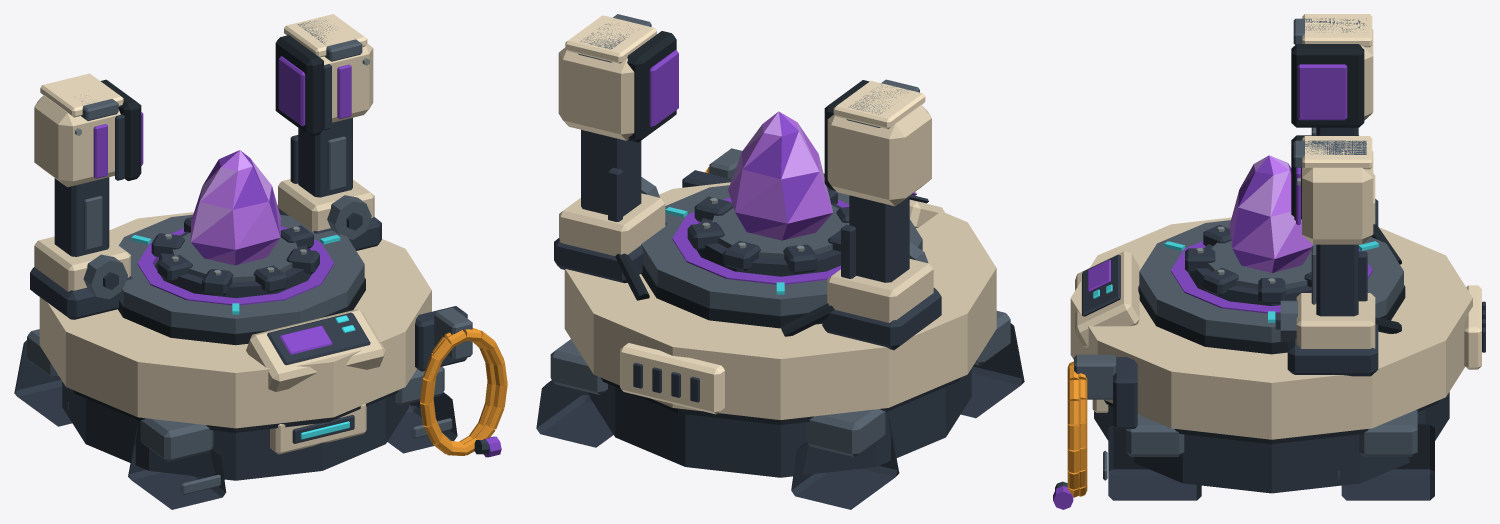
3 views of the same model, side by side, from view 1: azimuth 30°, elevation 25°; view 2: azimuth 150°, elevation 25°; view 3: azimuth 270°, elevation 25° (orthographic). The views are drawn at different scales.
Visible parts, largest first — view 1: ResonanceBenchStructure, ResonanceRotor, ResonanceCrystal; view 2: ResonanceBenchStructure, ResonanceRotor, ResonanceCrystal; view 3: ResonanceBenchStructure, ResonanceRotor, ResonanceCrystal.
Boxes of the visible parts, left/top/right/bottom form: ResonanceBenchStructure: left=14, top=14, right=507, bottom=509; ResonanceRotor: left=118, top=214, right=364, bottom=333; ResonanceCrystal: left=190, top=150, right=280, bottom=265; ResonanceBenchStructure: left=536, top=14, right=1024, bottom=509; ResonanceRotor: left=641, top=185, right=922, bottom=315; ResonanceCrystal: left=728, top=111, right=833, bottom=240; ResonanceBenchStructure: left=1053, top=14, right=1485, bottom=509; ResonanceRotor: left=1139, top=220, right=1403, bottom=342; ResonanceCrystal: left=1229, top=155, right=1313, bottom=273.
Bounding box in the file's own units: 1.4 × 1.3 × 1.48.
Materials: 1 (1 with a texture image).
